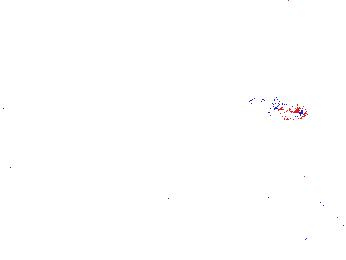X-ray fish: (247, 1, 310, 28)
glassfish: (208, 120, 277, 183), (128, 192, 176, 229)
red belly glassfish: (248, 98, 307, 121)
